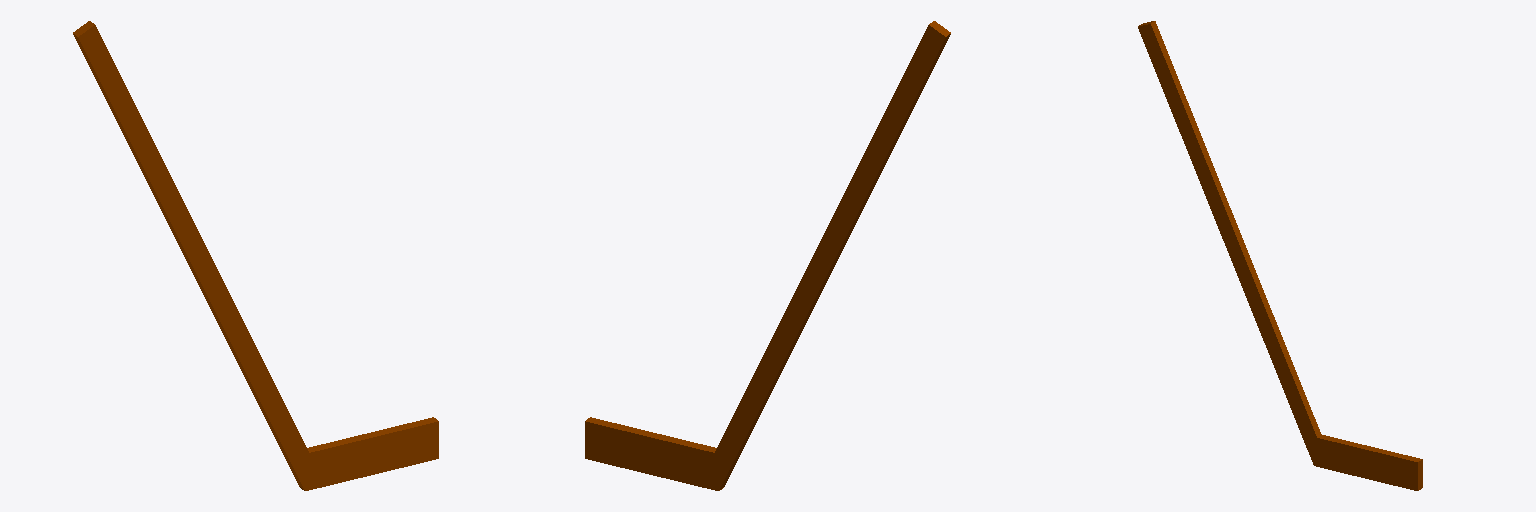
robot.urdf — hockey_stick:
<?xml version="1.0"?>
<robot name="hockey_stick">

  <!-- brown material -->
  <material name="brown">
    <color rgba="0.59 0.29 0.0 1.0"/>
  </material>

  <!-- single link for the hockey stick -->
  <link name="hockey_stick_link">

    <inertial>
      <origin xyz="0.000060 -0.098605 0.074855" rpy="0 0 0" />
      <inertia 
        ixx="0.0001" ixy="0.0" ixz="0.0"
        iyy="0.0001" iyz="0.0" izz="0.0"/>
      <mass value="0.2" />
    </inertial>

    <!-- VISUAL: handle -->
    <visual name="broom_handle_visual">
      <origin xyz="0.128 0 0.2865" rpy="2.705260 3.141593 -1.5708"/>
      <geometry>
        <box size="0.011 0.021 0.600000"/>
      </geometry>
      <material name="brown"/>
    </visual>
    <!-- COLLISION: handle -->
    <collision name="broom_handle_collision">
      <origin xyz="0.128 0 0.2865" rpy="2.705260 3.141593 -1.5708"/>
      <geometry>
        <box size="0.011 0.021 0.600000"/>
      </geometry>
    </collision>

    <!-- BLADE -->
    <visual name="blade_visual">
      <!-- 0.30 m long × 0.08 m wide × 0.02 m thick, angled -->
      <origin xyz="0.32 0 0.03" rpy="1.5708 0 0"/>
      <geometry>
        <box size="0.15 0.04 0.011"/>
      </geometry>
      <material name="brown"/>
    </visual>
    <collision name="blade_collision">
      <origin xyz="0.32 0 0.03" rpy="1.5708 0.0 0"/>
      <geometry>
        <box size="0.15 0.04 0.011"/>
      </geometry>
    </collision>

  </link>

  <!--
  Uncomment and adjust to mount to your robot flange:

  <joint name="hockey_stick_mount" type="fixed">
    <parent link="ee_link"/>
    <child  link="hockey_stick_link"/>
    <origin xyz="0 0 0" rpy="0 0 0"/>
  </joint>
  -->

</robot>

--- Facts derived from the render (not from the file) ---
3 views of the same robot in one strip: view 1: azimuth 30°, elevation 25°; view 2: azimuth 150°, elevation 25°; view 3: azimuth 330°, elevation 25° (orthographic).
Robot: hockey_stick — 1 links, 0 joints (none); root link hockey_stick_link; default pose: every joint at zero.
Links seen in each view (by area): view 1: hockey_stick_link; view 2: hockey_stick_link; view 3: hockey_stick_link.
Link boxes in pixels (x1,y1,x2,y2): hockey_stick_link: (73,21,438,490); hockey_stick_link: (585,21,950,490); hockey_stick_link: (1138,21,1422,490).
Bounding box of the posed robot: 0.4033 × 0.011 × 0.5528 m (x, y, z).
Geometry: primitives only (box / cylinder / sphere), no mesh files.
